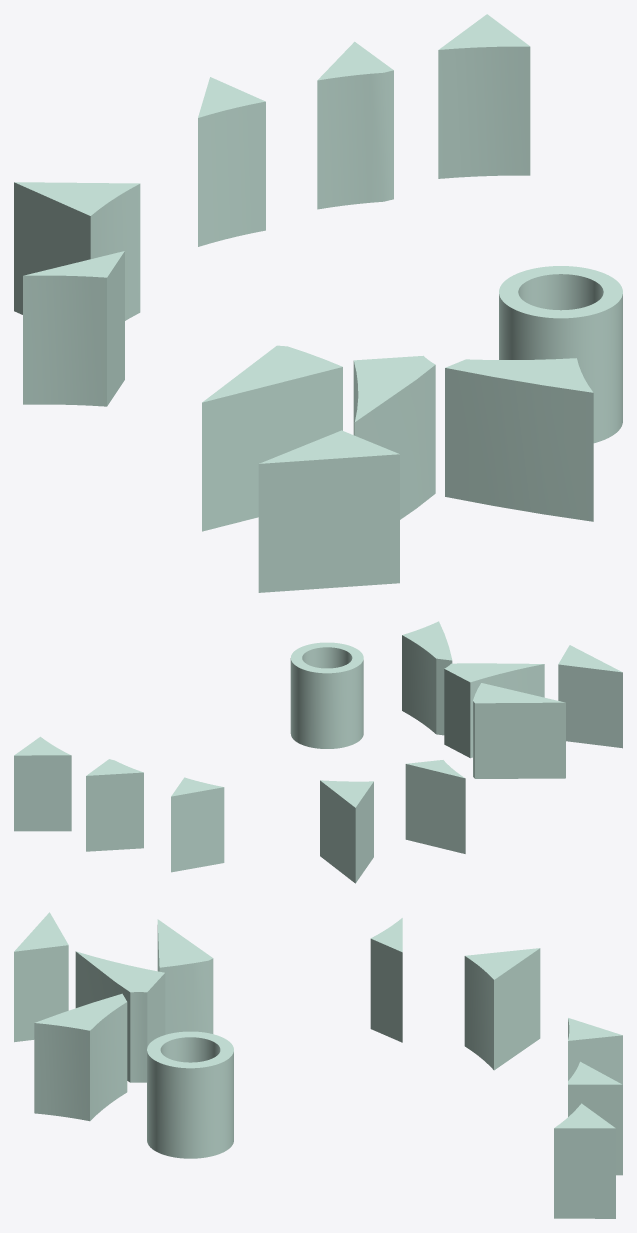
The picture shows the model from 3 angles, top to bottom: view 1: azimuth 30°, elevation 25°; view 2: azimuth 150°, elevation 25°; view 3: azimuth 270°, elevation 25°; orthographic projection. The views are drawn at different scales.
Visible parts, largest first — view 1: Renderer Node; view 2: Renderer Node; view 3: Renderer Node.
Boxes of the visible parts, x1=… form: Renderer Node: x1=14, y1=14, x2=622, y2=592; Renderer Node: x1=14, y1=621, x2=622, y2=883; Renderer Node: x1=14, y1=912, x2=622, y2=1218.
Size of the model in its own units: 1.16 by 0.2266 by 1.38.
